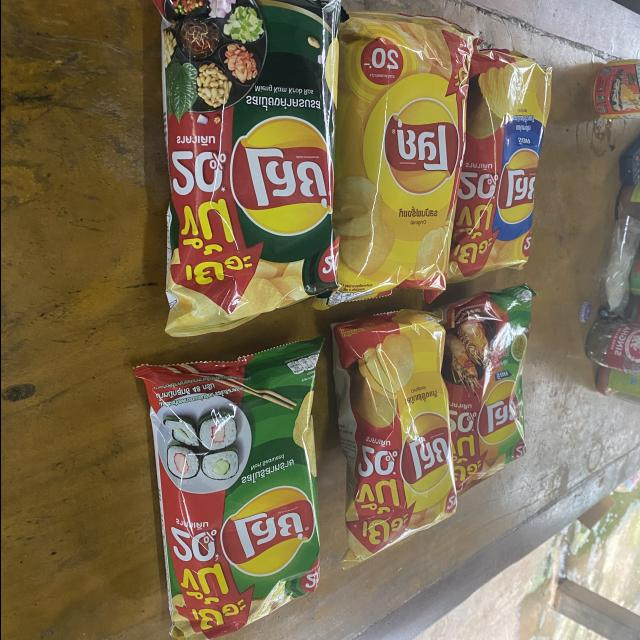plastik: (152, 0, 339, 336), (133, 337, 322, 640), (313, 12, 474, 310), (331, 310, 456, 568), (446, 49, 551, 283), (434, 284, 534, 493)
